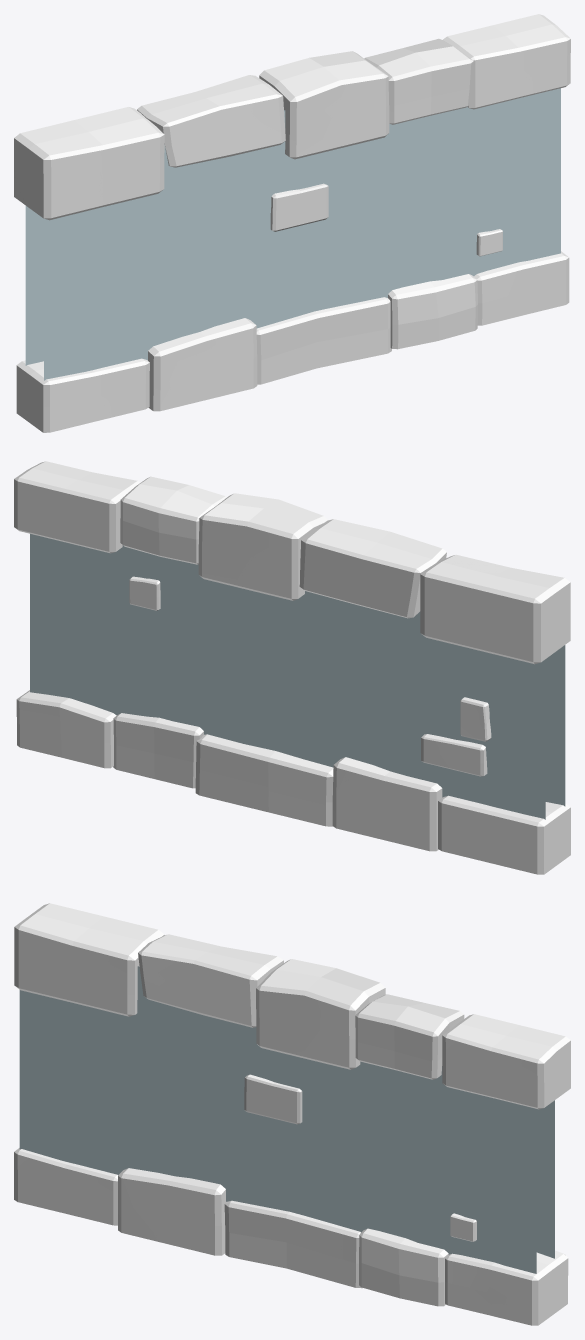
File: wall1111.glb
3 renders of one model, top to bottom at view 1: azimuth 30°, elevation 25°; view 2: azimuth 150°, elevation 25°; view 3: azimuth 330°, elevation 25°, orthographic.
Parts seen in each view (by area): view 1: wall1; view 2: wall1; view 3: wall1.
Part boxes in pixels (x1,y1,x2,y2): wall1: (14, 14, 570, 432); wall1: (14, 461, 570, 874); wall1: (14, 903, 570, 1325).
Bounding box in the file's own units: 0.1023 × 0.0533 × 0.0122.
1 material, 1 textured.
